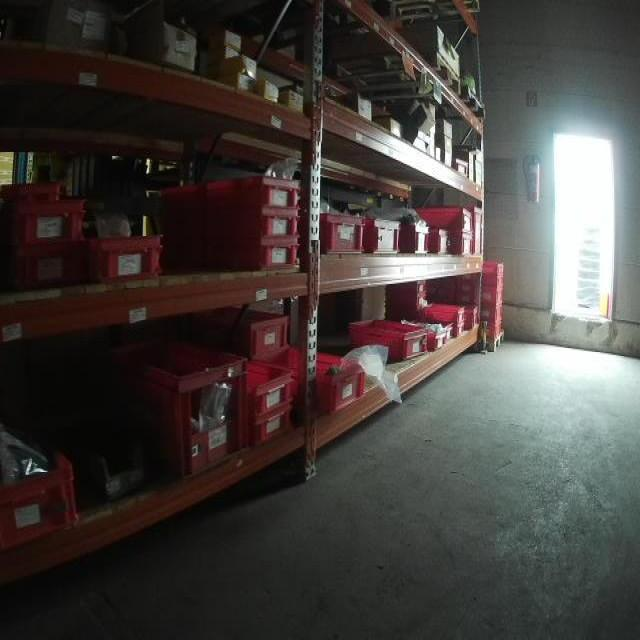pallet: (289, 53, 458, 111), (351, 83, 487, 142), (476, 324, 508, 351)
small_load_carrier: (112, 345, 250, 484), (4, 419, 81, 554), (157, 234, 303, 278), (288, 345, 374, 414), (187, 303, 294, 355), (2, 190, 90, 253), (154, 171, 306, 206), (157, 207, 306, 234), (348, 314, 431, 362), (84, 231, 162, 279), (243, 357, 297, 413), (245, 402, 296, 458), (321, 211, 364, 257), (412, 205, 475, 232), (366, 216, 403, 258), (398, 221, 431, 257), (444, 234, 474, 258), (420, 302, 468, 317), (426, 224, 448, 256), (474, 204, 484, 260), (430, 322, 446, 355), (487, 264, 506, 289), (465, 306, 482, 332), (484, 306, 505, 327), (484, 289, 506, 306), (448, 319, 465, 340)
